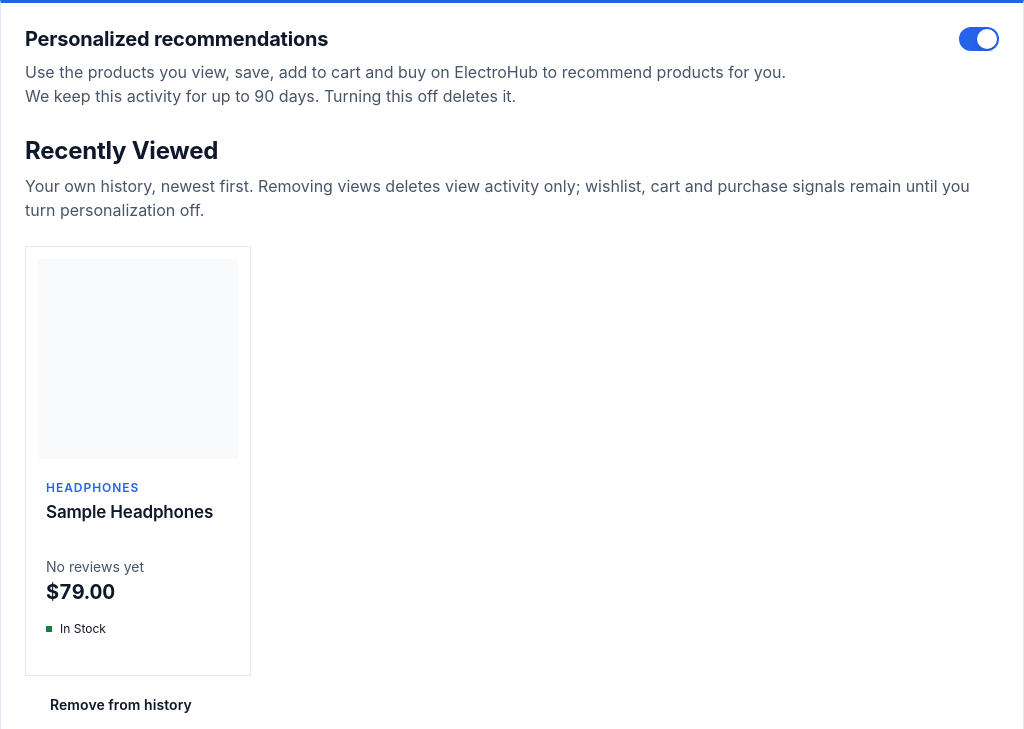
Scenario: PersonalizationPanel › shows a per-item removal error only after the mutation fails
The width and height of the screenshot is (1024, 729).
Click the button with aria-label "Remove Sample Headphones from recently viewed" at (121, 704), box [25, 684, 217, 724]
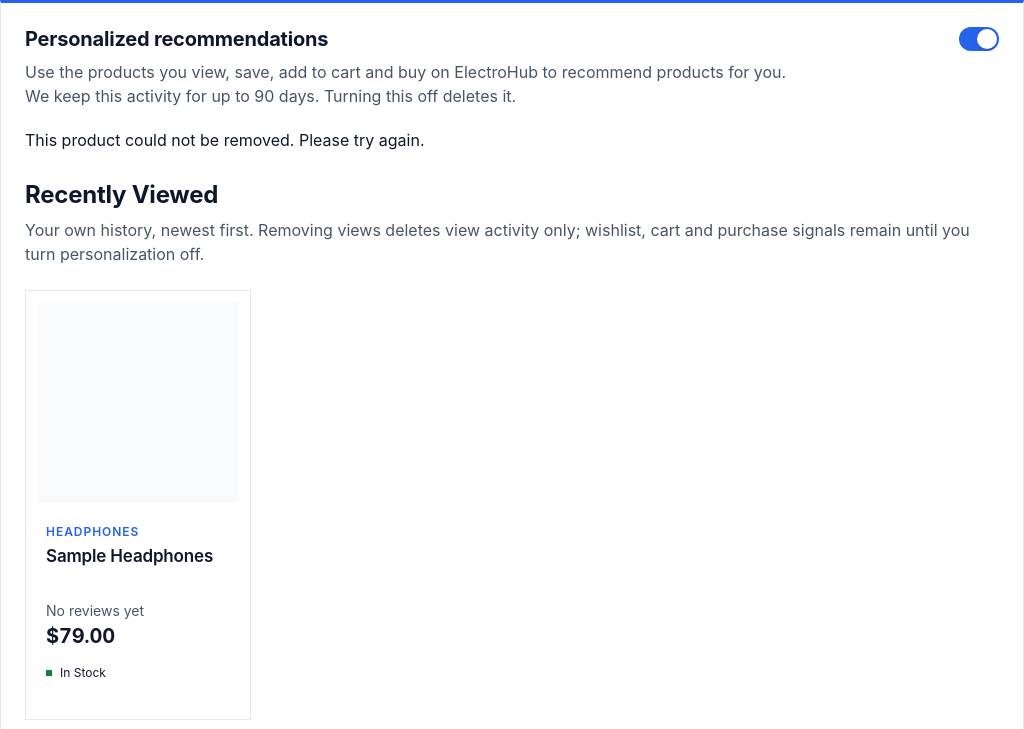
Check: the message reads "This product could not be removed. Please try again.", box [25, 130, 424, 150]
